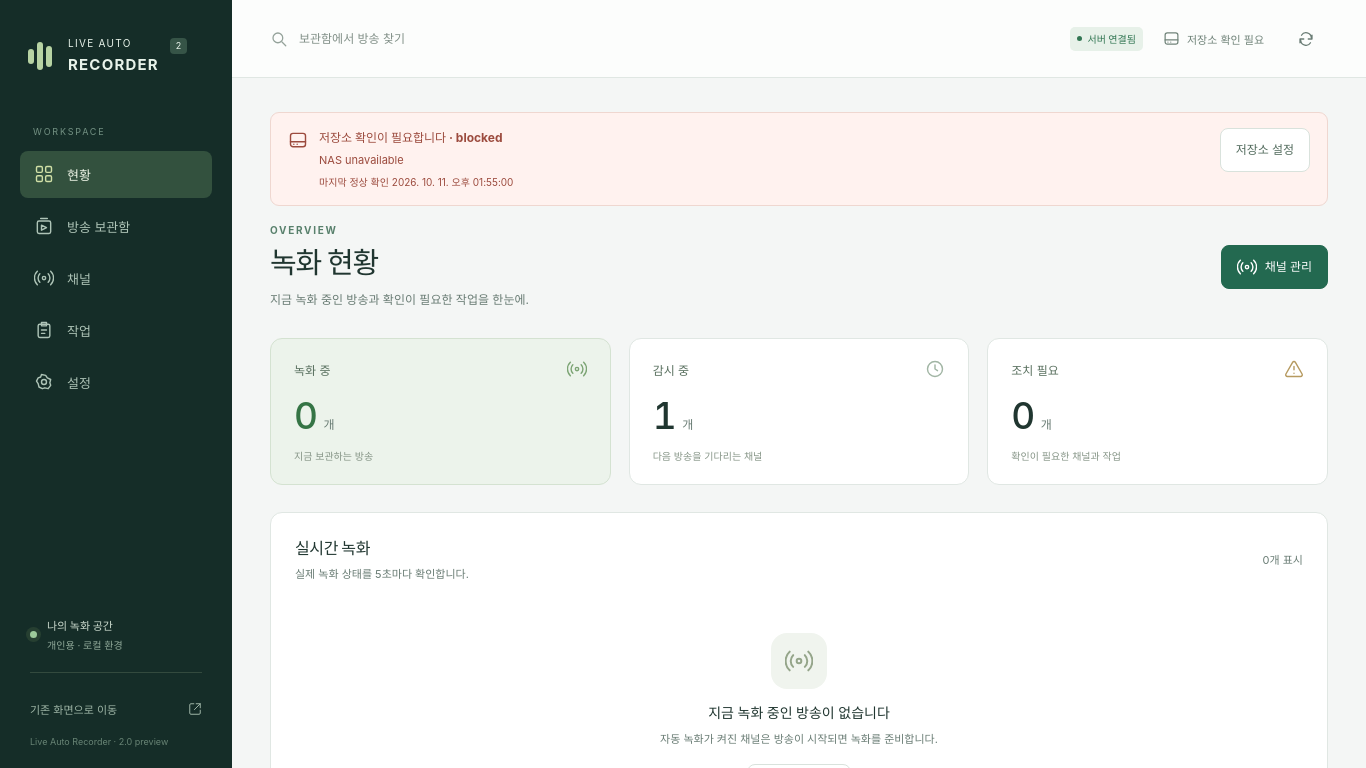
it: storage errors and last-good timestamp survive screen navigation
The width and height of the screenshot is (1366, 768).
Expected: the text "NAS unavailable" is shown, [319, 153, 404, 167]
Click the link "방송 보관함". click: (82, 226)
box: [34, 216, 130, 236]
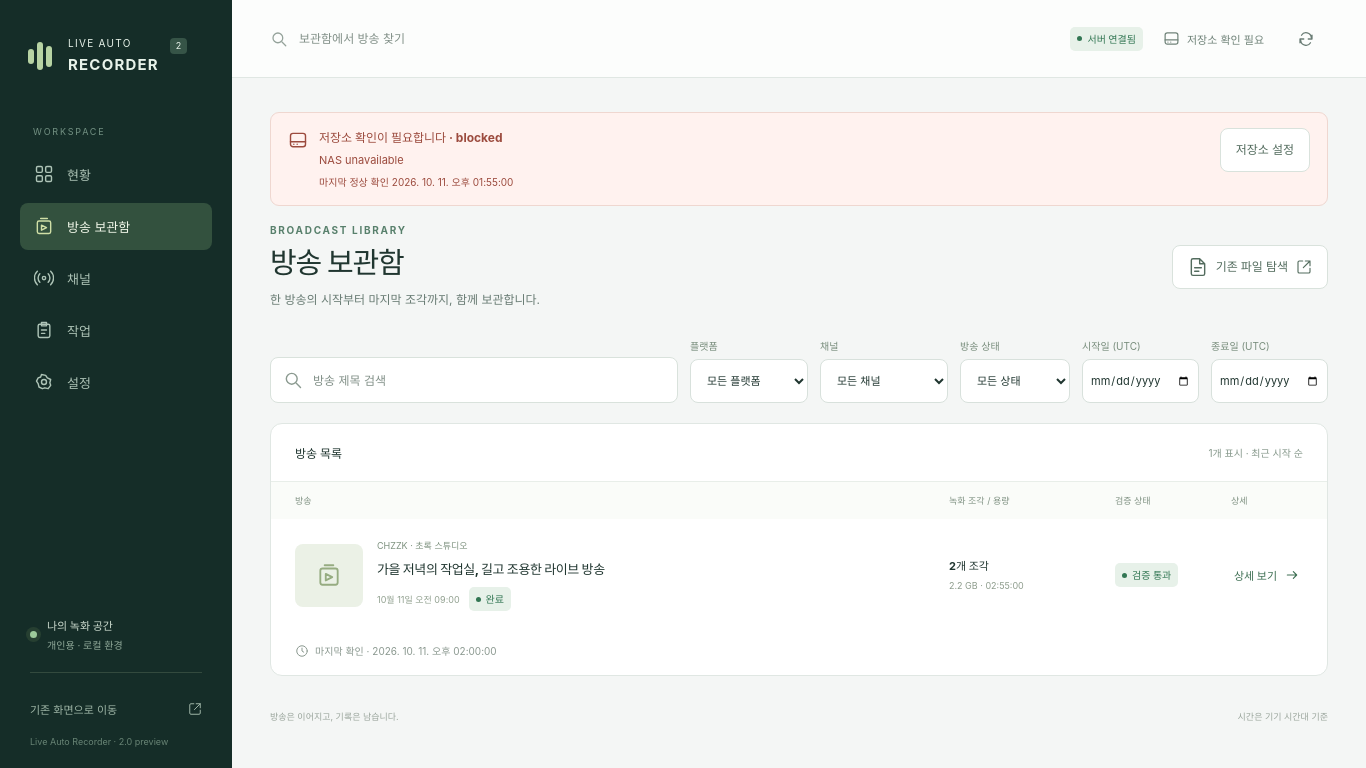
Expected: the text "NAS unavailable" is shown, [319, 153, 404, 167]
Expected: the heading "방송 보관함" is shown, [270, 245, 404, 280]
